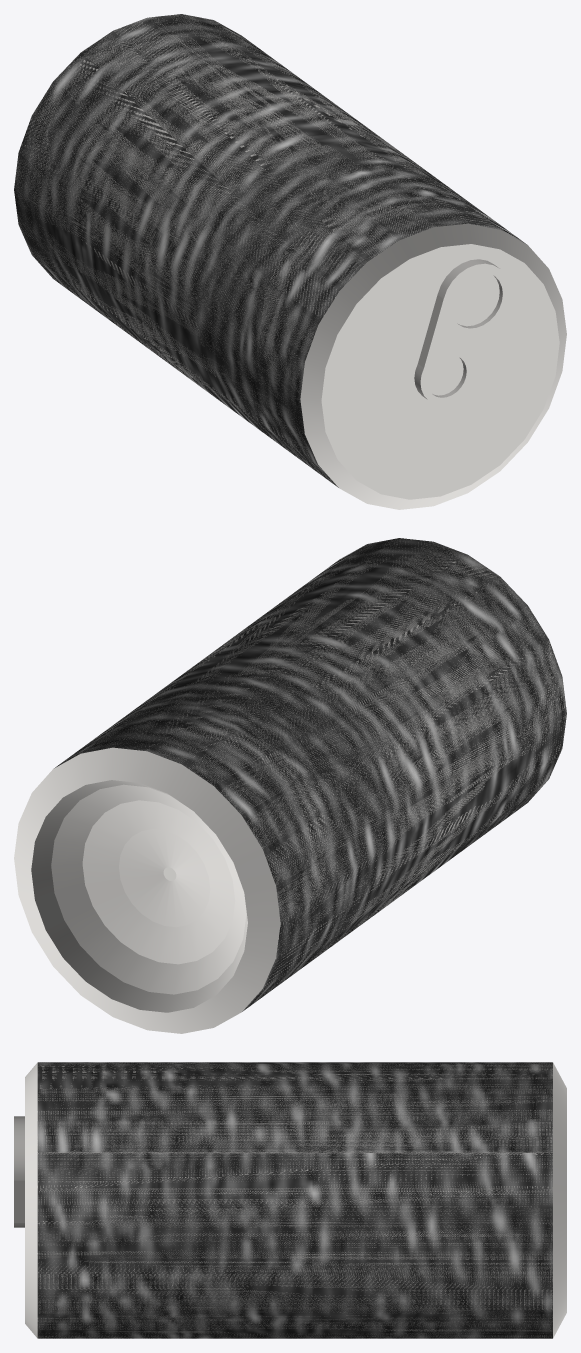
Rendered from model_align.obj.
The picture shows the model from 3 angles, top to bottom: view 1: azimuth 30°, elevation 25°; view 2: azimuth 150°, elevation 25°; view 3: azimuth 270°, elevation 25°; orthographic projection. The views are drawn at different scales.
Parts seen in each view (by area): view 1: mesh1_mesh1-geometry; view 2: mesh1_mesh1-geometry; view 3: mesh1_mesh1-geometry.
Boxes of the visible parts, x1,y1,x2,y2 form: mesh1_mesh1-geometry: [14, 14, 566, 509]; mesh1_mesh1-geometry: [14, 538, 566, 1033]; mesh1_mesh1-geometry: [14, 1062, 566, 1338].
Size of the model in its own units: 0.0665 by 0.0665 by 0.1326.
